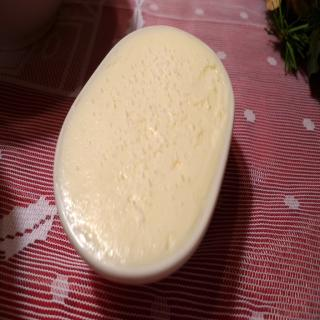Cheese: (58, 24, 232, 270)
